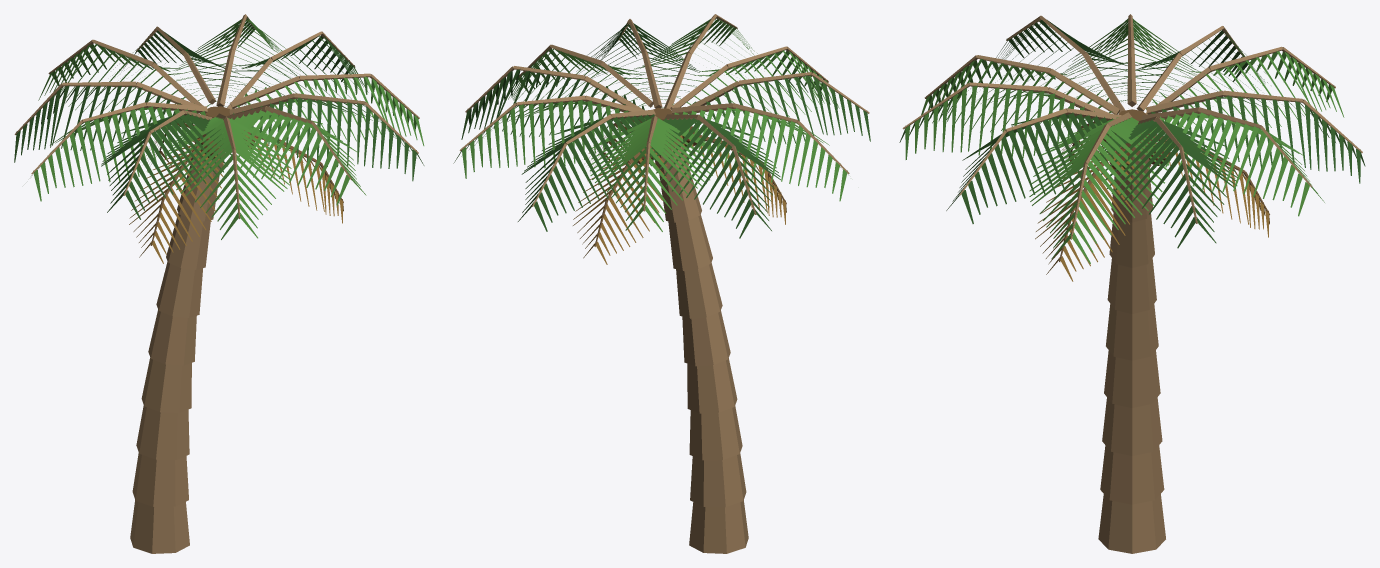
Rendered from palm.glb.
3 renders of one model, left to right at view 1: azimuth 30°, elevation 25°; view 2: azimuth 150°, elevation 25°; view 3: azimuth 270°, elevation 25°, orthographic. The views are drawn at different scales.
Visible parts, largest first — view 1: palm; view 2: palm; view 3: palm.
Boxes of the visible parts, x1,y1,x2,y2 form: palm: (14,14,424,553); palm: (453,14,870,553); palm: (899,14,1365,553).
Bounding box in the file's own units: 3.93 × 4.68 × 3.96.
